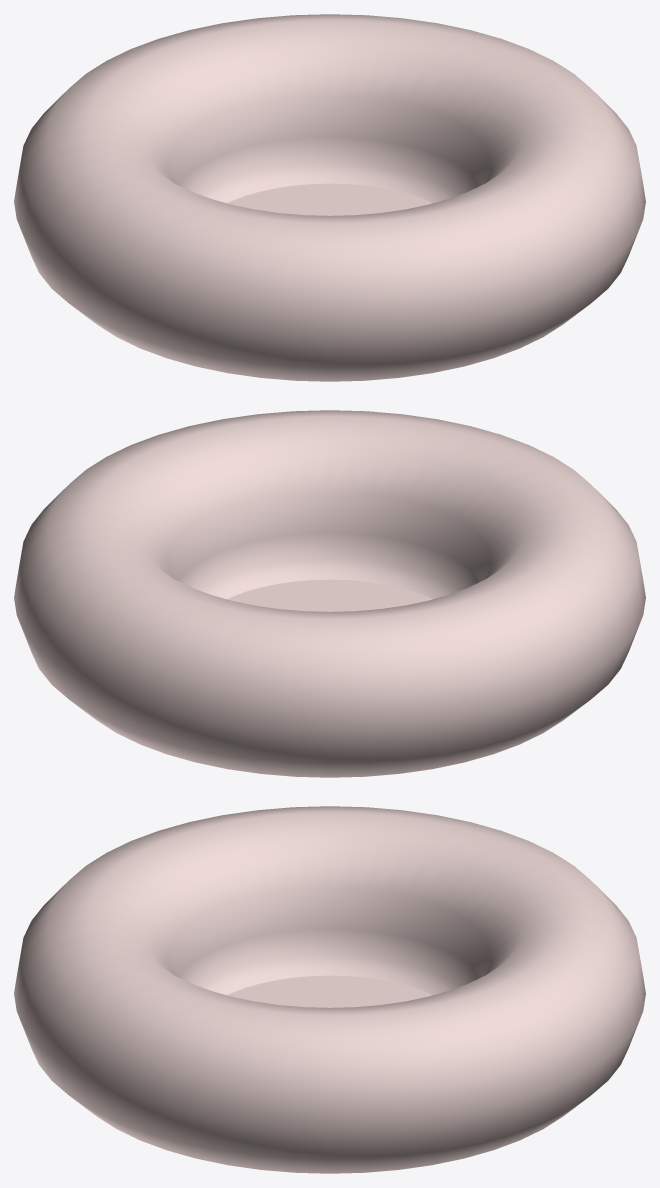
Rendered from TorusBlush.glb.
The picture shows the model from 3 angles, top to bottom: view 1: azimuth 30°, elevation 25°; view 2: azimuth 150°, elevation 25°; view 3: azimuth 270°, elevation 25°; orthographic projection.
Visible parts, largest first — view 1: Torus.002; view 2: Torus.002; view 3: Torus.002.
Part boxes in pixels (box(x1,y1,x2,y2)): Torus.002: box(14, 14, 645, 381); Torus.002: box(14, 410, 645, 777); Torus.002: box(14, 806, 645, 1173).
Size of the model in its own units: 0.5427 by 0.1489 by 0.5427.
